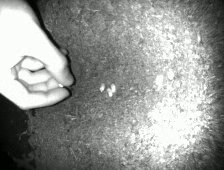corn: (153, 71, 165, 88), (104, 86, 114, 98), (108, 82, 118, 94), (97, 81, 106, 94), (56, 82, 66, 89)
